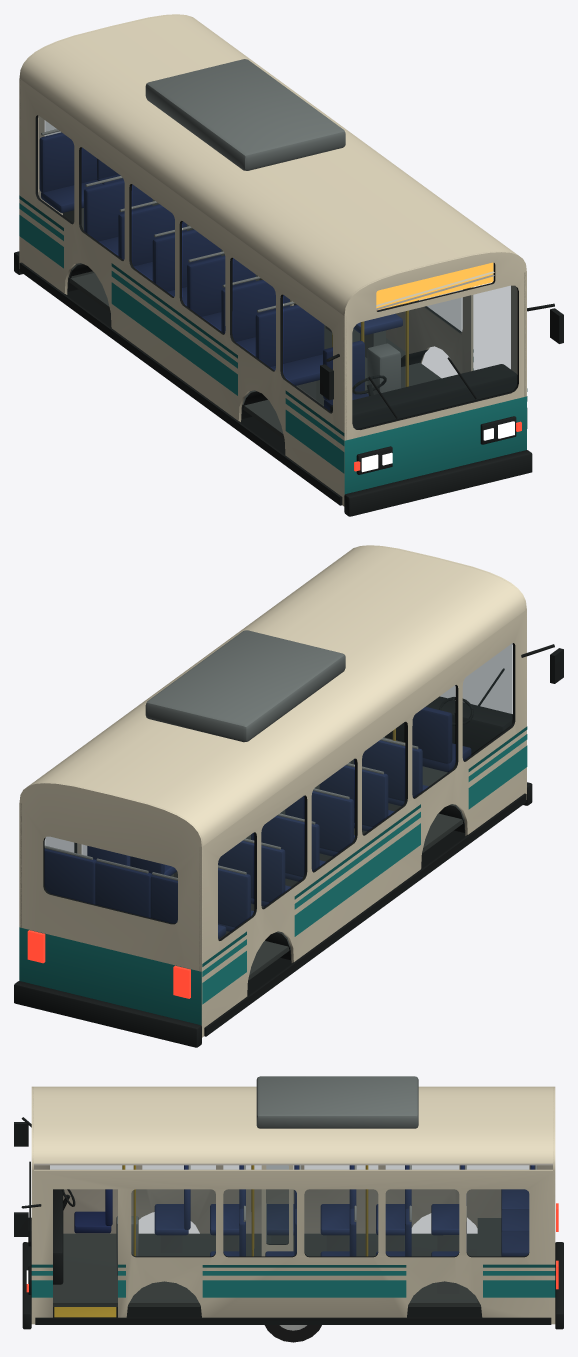
File: village-bus.glb
3 views of the same model, one above another, from view 1: azimuth 30°, elevation 25°; view 2: azimuth 150°, elevation 25°; view 3: azimuth 270°, elevation 25° (orthographic). The views are drawn at different scales.
Parts seen in each view (by area): view 1: bus-body; view 2: bus-body; view 3: bus-body, bus-door-front, bus-wheel.
Part boxes in pixels (<box>): bus-body: <box>14,14,563,516</box>; bus-body: <box>14,545,563,1047</box>; bus-body: <box>14,1076,563,1329</box>; bus-door-front: <box>261,1165,293,1256</box>; bus-wheel: <box>264,1325,321,1342</box>.
Size of the model in its own units: 2.96 by 3.64 by 7.46.
